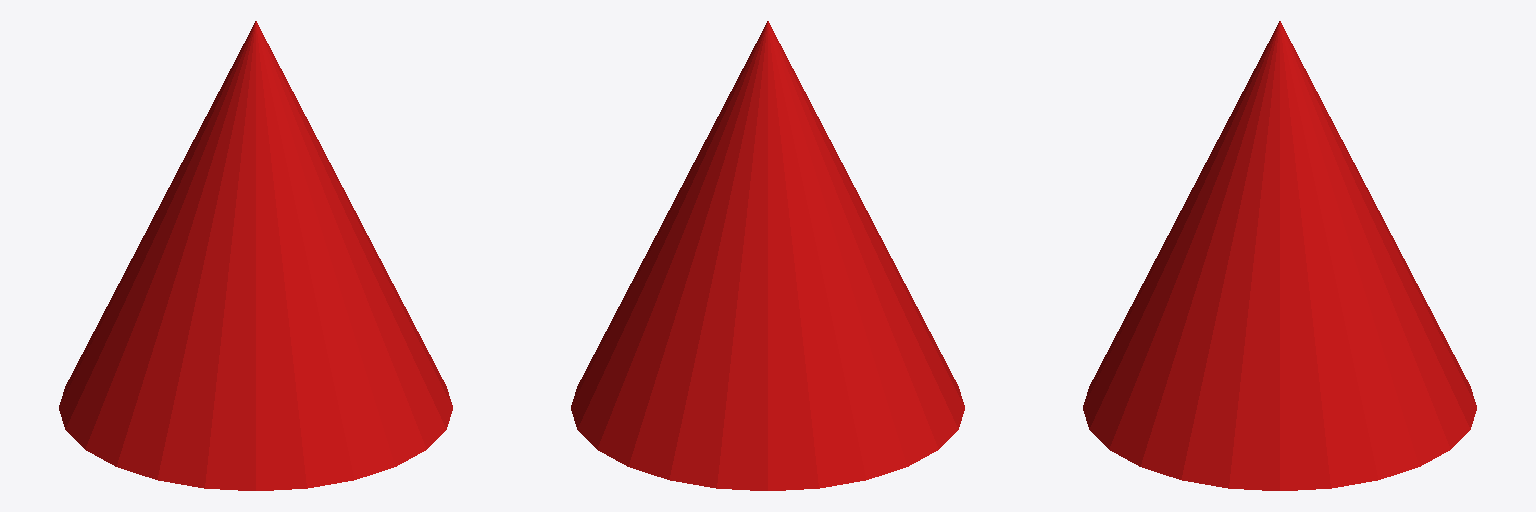
URDF robot description (red_cone):
<?xml version="1.0"?>
<robot name="red_cone">
  <link name="base_link">
    <contact>
      <lateral_friction value="0.9"/>
      <rolling_friction value="0.08"/>
      <spinning_friction value="0.06"/>
      <restitution value="0.0"/>
    </contact>
    <inertial>
      <origin rpy="0 0 0" xyz="0 0 0"/>
      <mass value="0.5"/>
      <inertia ixx="0.001" ixy="0" ixz="0" iyy="0.001" iyz="0" izz="0.001"/>
    </inertial>
    <visual>
      <origin rpy="0 0 0" xyz="0 0 0"/>
      <geometry>
        <mesh filename="cone.obj" scale="1 1 1"/>
      </geometry>
      <material name="red">
        <color rgba="0.850 0.120 0.120 1.000"/>
      </material>
    </visual>
    <collision>
      <origin rpy="0 0 0" xyz="0 0 0"/>
      <geometry>
        <mesh filename="cone.obj" scale="1 1 1"/>
      </geometry>
    </collision>
  </link>
</robot>

--- Facts derived from the render (not from the file) ---
Views: 3 orthographic renders of the robot side by side, from view 1: azimuth 30°, elevation 25°; view 2: azimuth 150°, elevation 25°; view 3: azimuth 270°, elevation 25°.
Model red_cone with 1 links and 0 joints (none), rooted at base_link, posed every joint at zero.
Visible links, largest first — view 1: base_link; view 2: base_link; view 3: base_link.
Link boxes in pixels (box(x1,y1,x2,y2)): base_link: box(59, 21, 452, 490); base_link: box(571, 21, 964, 490); base_link: box(1083, 21, 1476, 490).
Size in the robot's own frame: 0.12 by 0.12 by 0.13 metres.
Meshes: 1 distinct files referenced, 1 mesh visuals loaded (1 OBJ).
